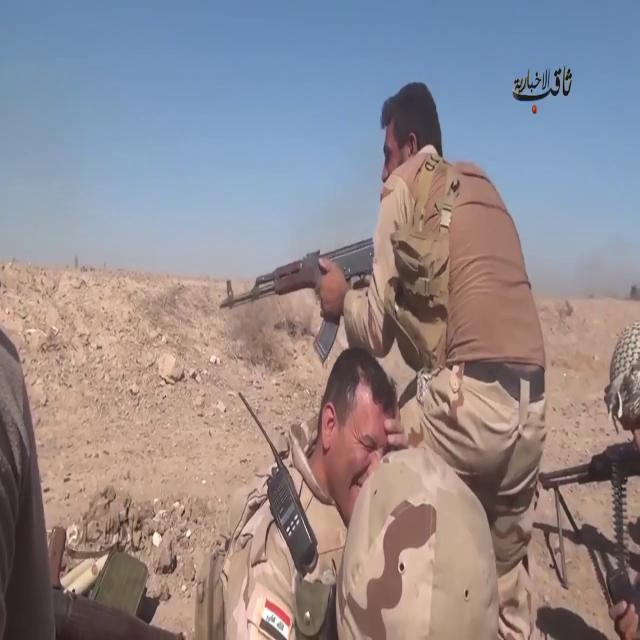long weapon: (203, 216, 394, 358)
